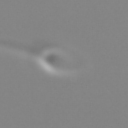normal: (1, 40, 40, 67)
